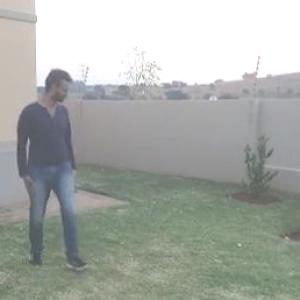follow: (18, 61, 92, 279)
